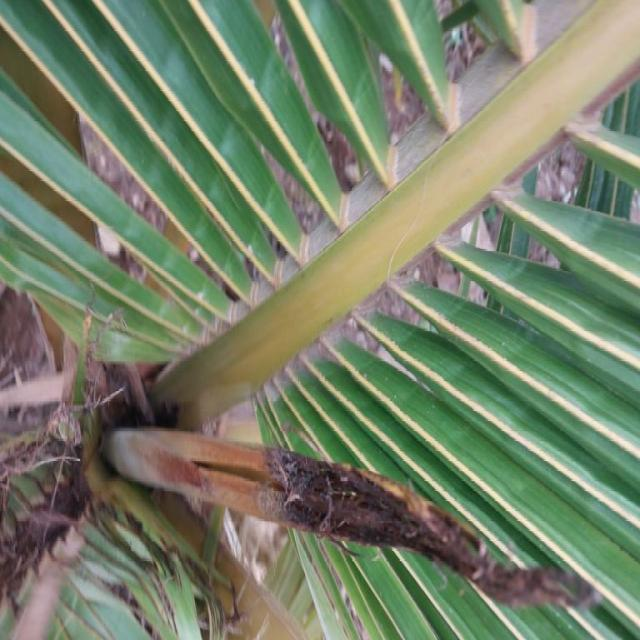bud rot: (104, 428, 600, 607)
